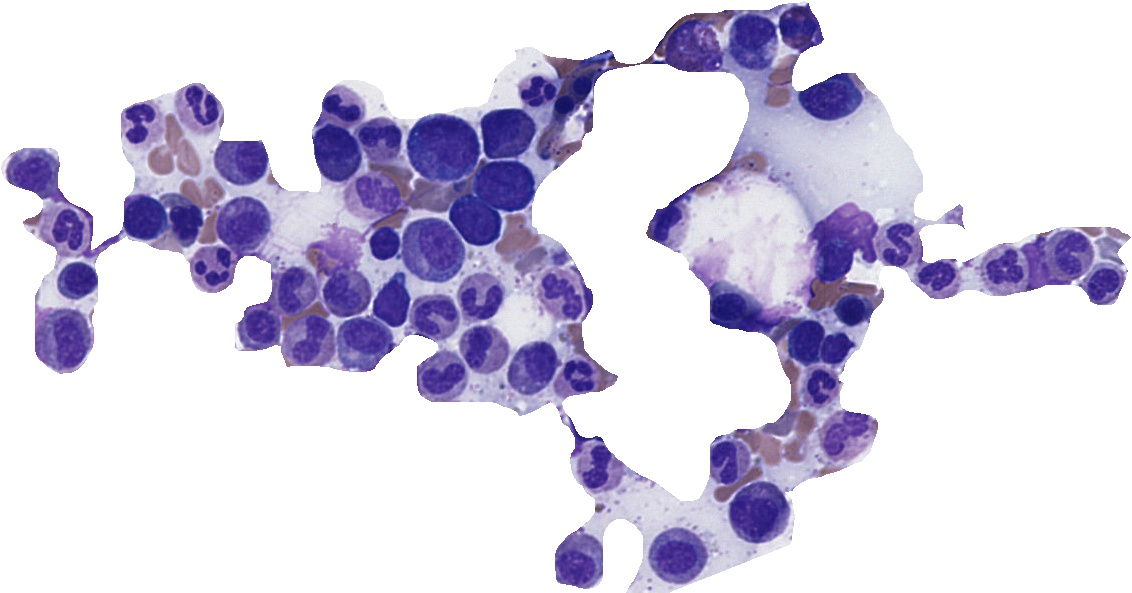objectness: (873, 217, 923, 267), (979, 246, 1029, 296), (170, 86, 220, 136), (539, 269, 589, 319), (548, 353, 598, 403), (457, 276, 507, 326), (317, 81, 367, 131), (914, 250, 964, 300), (353, 112, 403, 162), (44, 201, 94, 251), (188, 242, 238, 292), (111, 97, 161, 147), (513, 67, 563, 117), (795, 359, 845, 409), (408, 291, 458, 341), (507, 343, 557, 393), (338, 315, 388, 365), (5, 148, 55, 198), (649, 527, 699, 577), (402, 224, 452, 274), (310, 127, 360, 177), (35, 315, 85, 365), (211, 132, 261, 182), (215, 198, 265, 248), (731, 489, 781, 539), (773, 3, 823, 53), (669, 22, 719, 72), (573, 444, 623, 494), (318, 272, 368, 322), (266, 264, 316, 314), (284, 317, 334, 367), (459, 324, 509, 374), (706, 435, 756, 485), (1040, 227, 1090, 277), (412, 352, 462, 402), (1079, 257, 1129, 307), (478, 160, 528, 210), (358, 219, 408, 269), (480, 109, 530, 159), (729, 15, 779, 65), (451, 194, 501, 244), (820, 409, 870, 459), (345, 167, 395, 217), (156, 194, 206, 244), (369, 279, 419, 329), (811, 321, 861, 371), (234, 301, 284, 351), (1012, 237, 1062, 287), (814, 217, 864, 267), (557, 59, 607, 109), (828, 286, 878, 336), (118, 194, 168, 244), (49, 256, 99, 306), (706, 278, 756, 328), (540, 81, 590, 131), (803, 76, 853, 126), (779, 317, 829, 367), (415, 123, 465, 173)
